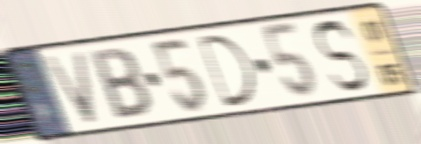5: (257, 20, 320, 104), (148, 33, 209, 117)
B: (87, 45, 155, 123)
D: (194, 32, 258, 111)
S: (312, 18, 370, 96)
V: (38, 49, 100, 128)
